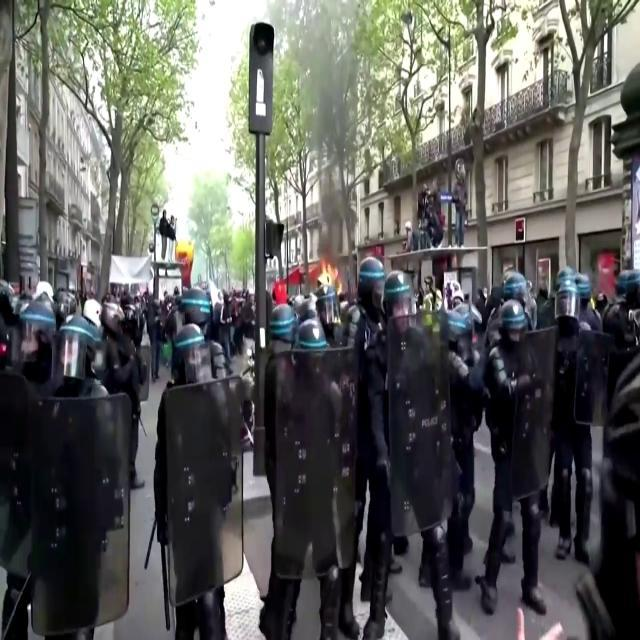Fire: (314, 258, 344, 296)
Smoke: (303, 5, 363, 258)
